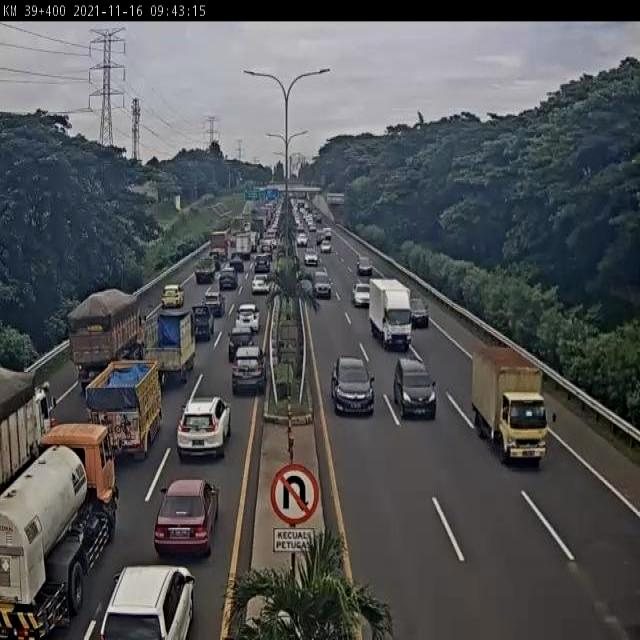Car: (97, 564, 197, 639), (154, 478, 218, 555), (176, 394, 232, 459), (394, 356, 437, 420), (330, 354, 374, 416), (229, 344, 267, 395), (228, 323, 258, 362), (192, 304, 216, 342), (234, 304, 261, 335), (203, 287, 226, 316), (410, 298, 430, 328), (312, 268, 332, 298), (161, 284, 185, 309), (218, 266, 238, 290), (352, 282, 371, 307), (252, 275, 270, 295), (254, 253, 271, 273), (229, 253, 245, 272), (357, 256, 372, 276), (304, 249, 318, 266), (296, 233, 308, 247), (320, 240, 332, 253), (321, 228, 332, 242), (317, 232, 326, 245)
Truck: (0, 420, 116, 640), (471, 345, 552, 465), (86, 358, 163, 467), (68, 288, 144, 377), (0, 371, 57, 484), (146, 303, 197, 386), (369, 278, 412, 352)
